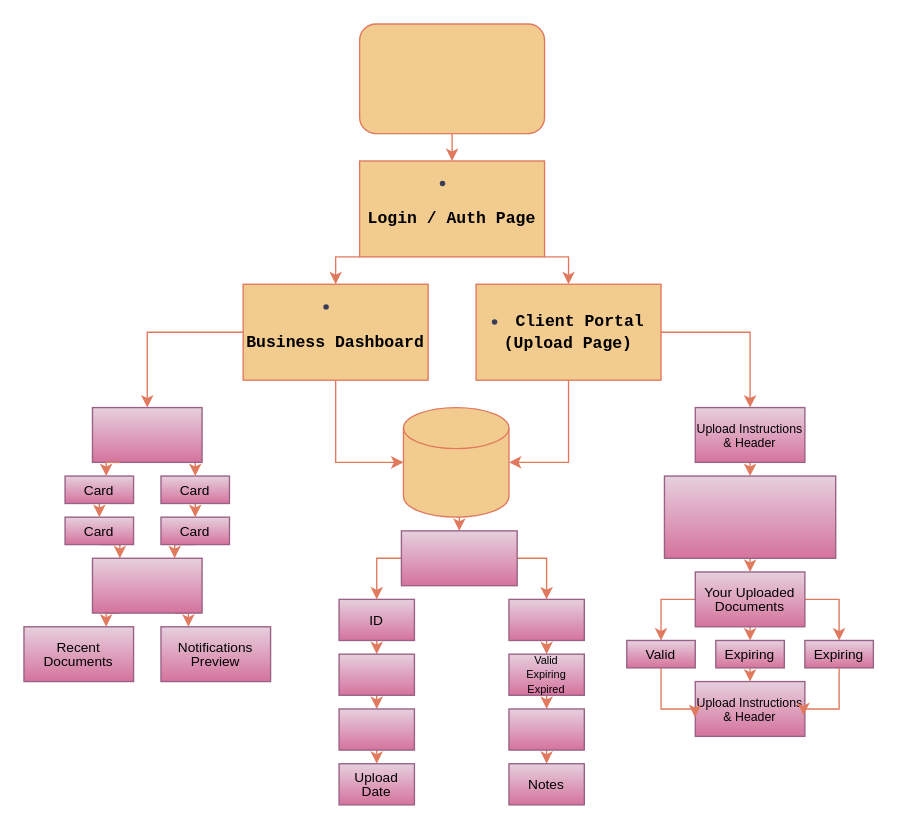
This 897x829 diagram has some shape labels left out. Each missing label, with the centre of its shape:
"Category" goes at point 376,729.
"Client Document Portal (Web App)" goes at point 451,78.
"Client Username Email" goes at point 546,619.
"Document Data Model" goes at point 458,558.
"Document Upload Graph" goes at point 146,585.
"Documents Data" goes at point 455,461.
"File Upload Box (Drag & Drop)" goes at point 749,516.
"File_URL" goes at point 546,729.
"Title" goes at point 376,674.
"Top Navigation Bar" goes at point 146,434.
